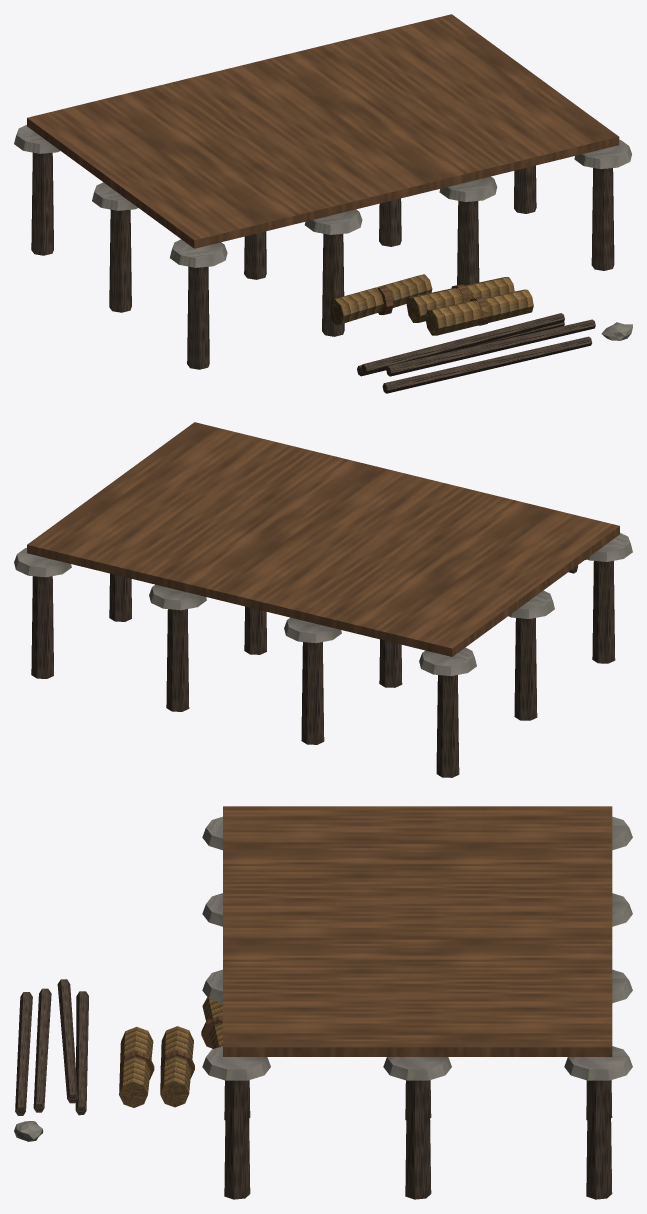
Rendered from cantiere_granaio_comune.glb.
3 renders of one model, top to bottom at view 1: azimuth 30°, elevation 25°; view 2: azimuth 150°, elevation 25°; view 3: azimuth 270°, elevation 25°, orthographic. The views are drawn at different scales.
Parts seen in each view (by area): view 1: cantiere_granaio_comune; view 2: cantiere_granaio_comune; view 3: cantiere_granaio_comune.
Part boxes in pixels (x1,y1,x2,y2): cantiere_granaio_comune: [14, 14, 632, 393]; cantiere_granaio_comune: [14, 422, 632, 777]; cantiere_granaio_comune: [14, 806, 632, 1199].
Bounding box in the file's own units: 6.72 × 1.86 × 6.84.
Materials: 4 (4 with a texture image).
